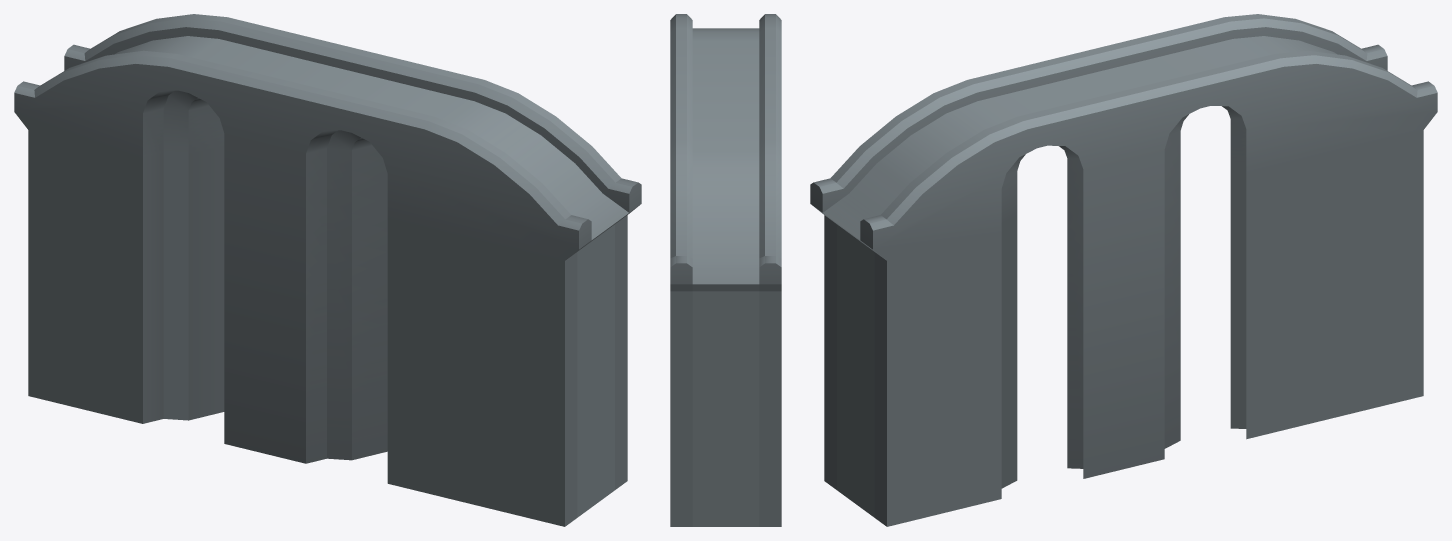
The model's file is bridge.glb.
3 views of the same model, side by side, from view 1: azimuth 30°, elevation 25°; view 2: azimuth 150°, elevation 25°; view 3: azimuth 270°, elevation 25° (orthographic). The views are drawn at different scales.
Parts seen in each view (by area): view 1: bridge; view 2: bridge; view 3: bridge.
Part boxes in pixels (bbox=[...]): bridge: bbox=[14, 14, 641, 526]; bridge: bbox=[670, 14, 781, 526]; bridge: bbox=[810, 14, 1437, 526].
Bounding box in the file's own units: 0.6667 × 0.625 × 0.9622.
Materials: 1 (1 with a texture image).
